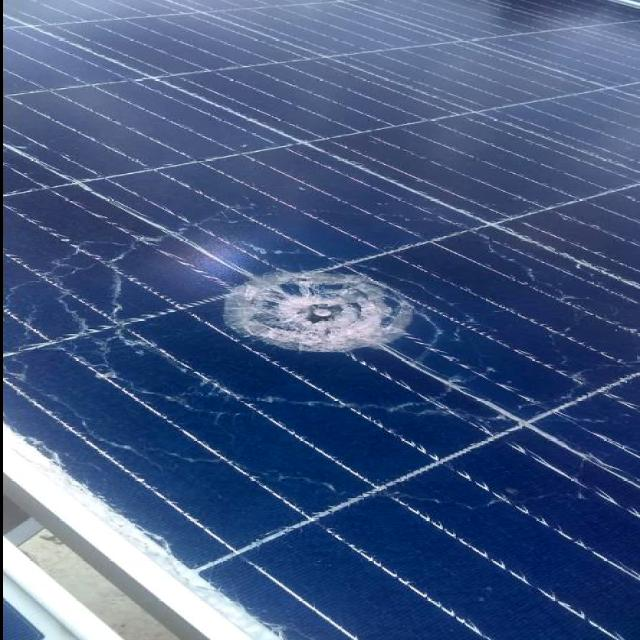hotspot: (197, 222, 441, 386)
